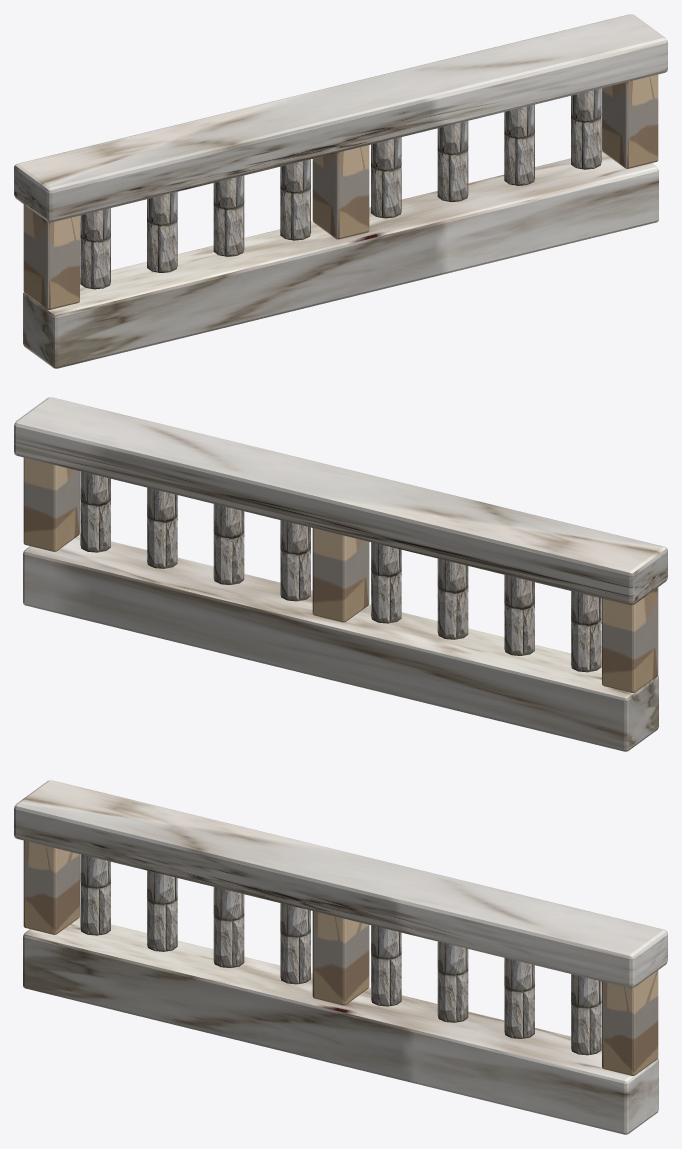
The model's file is balustrade_vault_straight_4m_LOD1.glb.
The picture shows the model from 3 angles, top to bottom: view 1: azimuth 30°, elevation 25°; view 2: azimuth 150°, elevation 25°; view 3: azimuth 330°, elevation 25°; orthographic projection.
Visible parts, largest first — view 1: LOD1_Plinth, LOD1_Handrail, LOD1_Pier, LOD1_Pier.001, LOD1_Pier.002, LOD1_Baluster.002, LOD1_Baluster.005, LOD1_Baluster.007, LOD1_Baluster.003, LOD1_Baluster.004, LOD1_Baluster.006, LOD1_Baluster.001 (+1 smaller); view 2: LOD1_Plinth, LOD1_Handrail, LOD1_Pier, LOD1_Pier.001, LOD1_Pier.002, LOD1_Baluster.002, LOD1_Baluster.005, LOD1_Baluster.007, LOD1_Baluster.003, LOD1_Baluster.004, LOD1_Baluster.006, LOD1_Baluster.001 (+1 smaller); view 3: LOD1_Plinth, LOD1_Handrail, LOD1_Pier.002, LOD1_Pier.001, LOD1_Pier, LOD1_Baluster.005, LOD1_Baluster.002, LOD1_Baluster, LOD1_Baluster.004, LOD1_Baluster.001, LOD1_Baluster.003, LOD1_Baluster.006 (+1 smaller).
Boxes of the visible parts, box(x1,y1,x2,y2) form: LOD1_Plinth: box(23, 151, 658, 368); LOD1_Handrail: box(14, 14, 667, 222); LOD1_Pier: box(23, 204, 79, 309); LOD1_Pier.001: box(312, 145, 369, 239); LOD1_Pier.002: box(602, 74, 658, 168); LOD1_Baluster.002: box(213, 175, 244, 256); LOD1_Baluster.005: box(437, 121, 468, 201); LOD1_Baluster.007: box(571, 88, 601, 169); LOD1_Baluster.003: box(280, 159, 310, 240); LOD1_Baluster.004: box(371, 137, 401, 218); LOD1_Baluster.006: box(504, 104, 534, 185); LOD1_Baluster.001: box(147, 192, 177, 272); LOD1_Plinth: box(23, 534, 658, 751); LOD1_Handrail: box(14, 397, 667, 605); LOD1_Pier: box(602, 587, 658, 692); LOD1_Pier.001: box(312, 528, 369, 622); LOD1_Pier.002: box(23, 457, 79, 551); LOD1_Baluster.002: box(437, 558, 468, 639); LOD1_Baluster.005: box(213, 504, 244, 584); LOD1_Baluster.007: box(80, 471, 110, 552); LOD1_Baluster.003: box(371, 542, 401, 623); LOD1_Baluster.004: box(280, 520, 310, 601); LOD1_Baluster.006: box(147, 487, 177, 568); LOD1_Baluster.001: box(504, 575, 534, 655); LOD1_Plinth: box(23, 917, 658, 1134); LOD1_Handrail: box(14, 780, 667, 988); LOD1_Pier.002: box(602, 970, 658, 1075); LOD1_Pier.001: box(312, 911, 369, 1005); LOD1_Pier: box(23, 840, 79, 934); LOD1_Baluster.005: box(437, 941, 468, 1022); LOD1_Baluster.002: box(213, 887, 244, 967); LOD1_Baluster: box(80, 854, 110, 935); LOD1_Baluster.004: box(371, 925, 401, 1006); LOD1_Baluster.001: box(147, 870, 177, 951); LOD1_Baluster.003: box(280, 903, 310, 984); LOD1_Baluster.006: box(504, 958, 534, 1038).
Size of the model in its own units: 4.1 by 1.16 by 0.42.
Materials: 2 (2 with a texture image).
